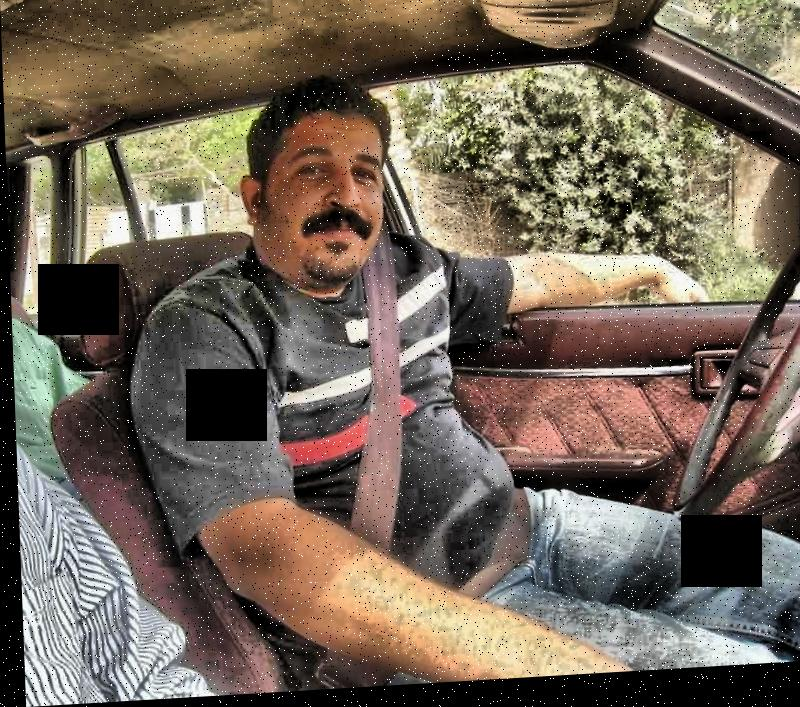seatbelt: (303, 173, 425, 632)
